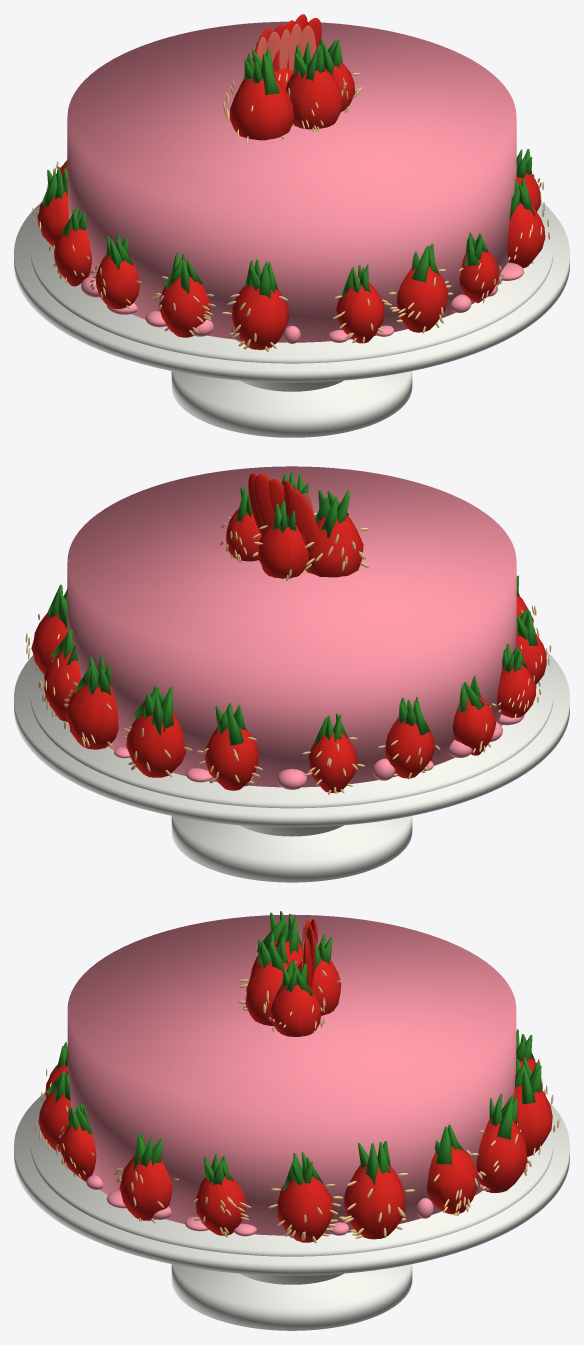
File: stcake.glb
The picture shows the model from 3 angles, top to bottom: view 1: azimuth 30°, elevation 25°; view 2: azimuth 150°, elevation 25°; view 3: azimuth 270°, elevation 25°; orthographic projection.
Visible parts, largest first — view 1: Strawberry_Frosting, Ceramic_Cake_Plate, Ceramic_Plate_Rim, Cake_Stand_Base, Top_Strawberry, Bottom_Strawberry.011, Top_Strawberry.001, Bottom_Strawberry.013, Bottom_Strawberry.010, Bottom_Strawberry.012, Bottom_Strawberry.015, Bottom_Strawberry.009 (+5 smaller); view 2: Strawberry_Frosting, Ceramic_Cake_Plate, Ceramic_Plate_Rim, Cake_Stand_Base, Bottom_Strawberry.004, Bottom_Strawberry.003, Bottom_Strawberry.005, Top_Strawberry, Top_Strawberry.003, Bottom_Strawberry.006, Bottom_Strawberry.007, Bottom_Strawberry.008 (+8 smaller); view 3: Strawberry_Frosting, Ceramic_Cake_Plate, Ceramic_Plate_Rim, Cake_Stand_Base, Bottom_Strawberry.001, Bottom_Strawberry, Bottom_Strawberry.003, Bottom_Strawberry.015, Bottom_Strawberry.002, Bottom_Strawberry.016, Top_Strawberry.002, Bottom_Strawberry.004 (+5 smaller).
Boxes of the visible parts, bbox=[...] form: Strawberry_Frosting: bbox=[67, 21, 516, 342]; Ceramic_Cake_Plate: bbox=[14, 201, 569, 382]; Ceramic_Plate_Rim: bbox=[30, 210, 553, 363]; Cake_Stand_Base: bbox=[171, 371, 412, 437]; Top_Strawberry: bbox=[230, 76, 293, 140]; Bottom_Strawberry.011: bbox=[232, 284, 288, 349]; Top_Strawberry.001: bbox=[285, 68, 342, 129]; Bottom_Strawberry.013: bbox=[397, 266, 448, 332]; Bottom_Strawberry.010: bbox=[159, 277, 210, 337]; Bottom_Strawberry.012: bbox=[336, 282, 384, 343]; Bottom_Strawberry.015: bbox=[507, 203, 545, 267]; Bottom_Strawberry.009: bbox=[95, 254, 139, 308]; Strawberry_Frosting: bbox=[67, 466, 516, 787]; Ceramic_Cake_Plate: bbox=[14, 649, 569, 827]; Ceramic_Plate_Rim: bbox=[30, 667, 553, 808]; Cake_Stand_Base: bbox=[171, 816, 412, 882]; Bottom_Strawberry.004: bbox=[126, 712, 185, 777]; Bottom_Strawberry.003: bbox=[65, 684, 118, 749]; Bottom_Strawberry.005: bbox=[204, 726, 258, 790]; Top_Strawberry: bbox=[305, 514, 363, 577]; Top_Strawberry.003: bbox=[257, 523, 308, 578]; Bottom_Strawberry.006: bbox=[308, 732, 357, 792]; Bottom_Strawberry.007: bbox=[385, 717, 434, 778]; Bottom_Strawberry.008: bbox=[453, 696, 495, 755]; Strawberry_Frosting: bbox=[67, 914, 516, 1235]; Ceramic_Cake_Plate: bbox=[14, 1092, 569, 1275]; Ceramic_Plate_Rim: bbox=[30, 1112, 553, 1256]; Cake_Stand_Base: bbox=[171, 1264, 412, 1330]; Bottom_Strawberry.001: bbox=[343, 1164, 405, 1239]; Bottom_Strawberry: bbox=[277, 1176, 333, 1242]; Bottom_Strawberry.003: bbox=[476, 1118, 527, 1192]; Bottom_Strawberry.015: bbox=[119, 1155, 172, 1220]; Bottom_Strawberry.002: bbox=[427, 1146, 478, 1214]; Bottom_Strawberry.016: bbox=[195, 1176, 245, 1235]; Top_Strawberry.002: bbox=[270, 984, 321, 1036]; Bottom_Strawberry.004: bbox=[513, 1085, 552, 1156].
Size of the model in its own units: 6.7 by 4.93 by 6.7.
